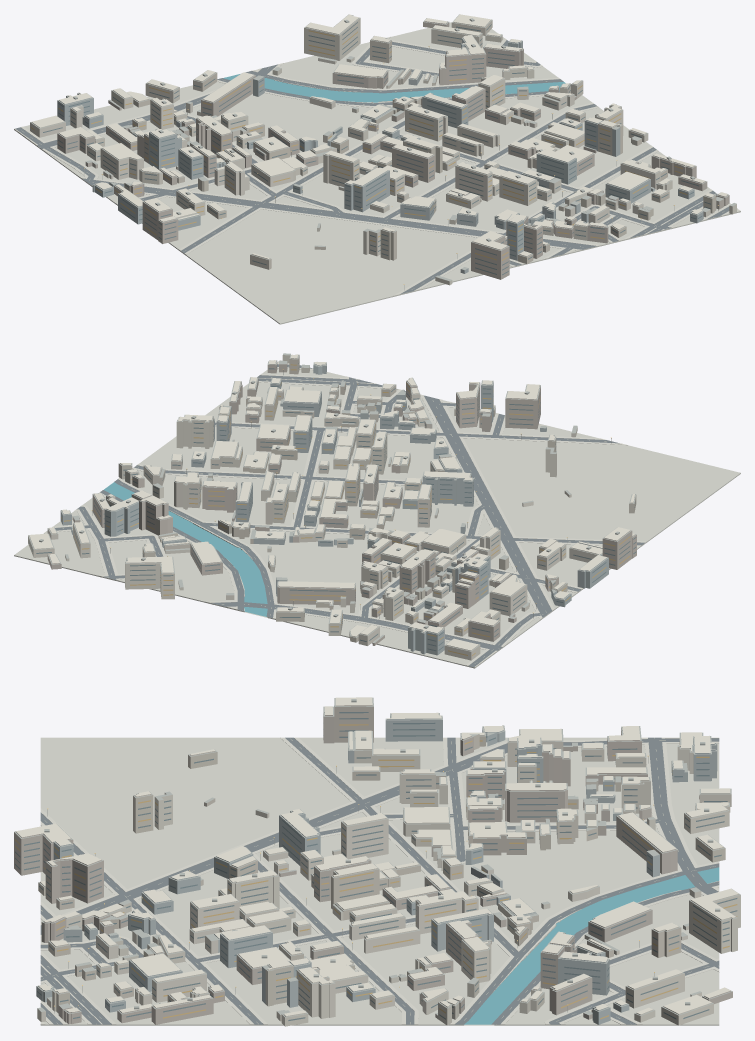
The picture shows the model from 3 angles, top to bottom: view 1: azimuth 30°, elevation 25°; view 2: azimuth 150°, elevation 25°; view 3: azimuth 270°, elevation 25°; orthographic projection. The views are drawn at different scales.
Parts seen in each view (by area): view 1: city; view 2: city; view 3: city.
Part boxes in pixels (x1,y1,x2,y2): city: [14, 14, 740, 324]; city: [14, 353, 740, 668]; city: [14, 697, 740, 1026].
Size of the model in its own units: 511 by 39.65 by 536.
